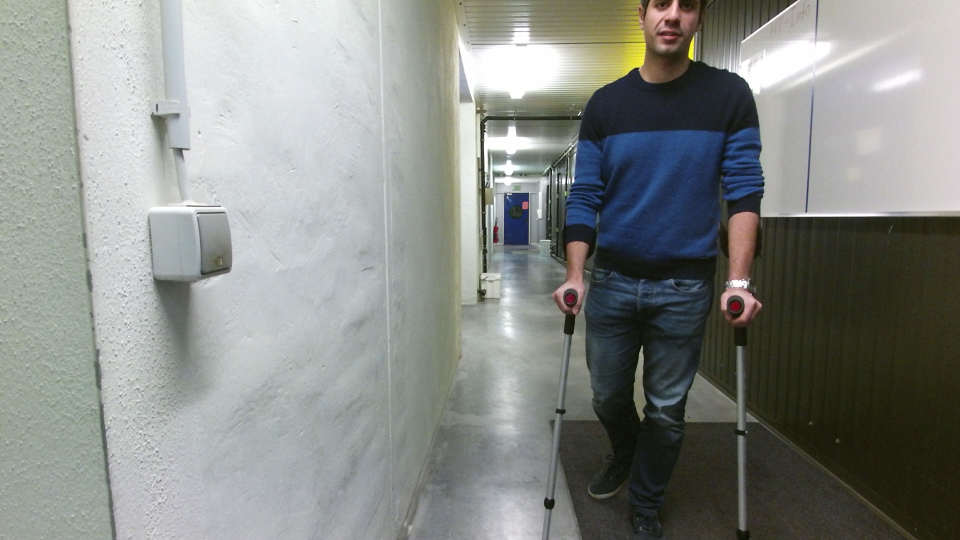crutches: (530, 1, 779, 540)
